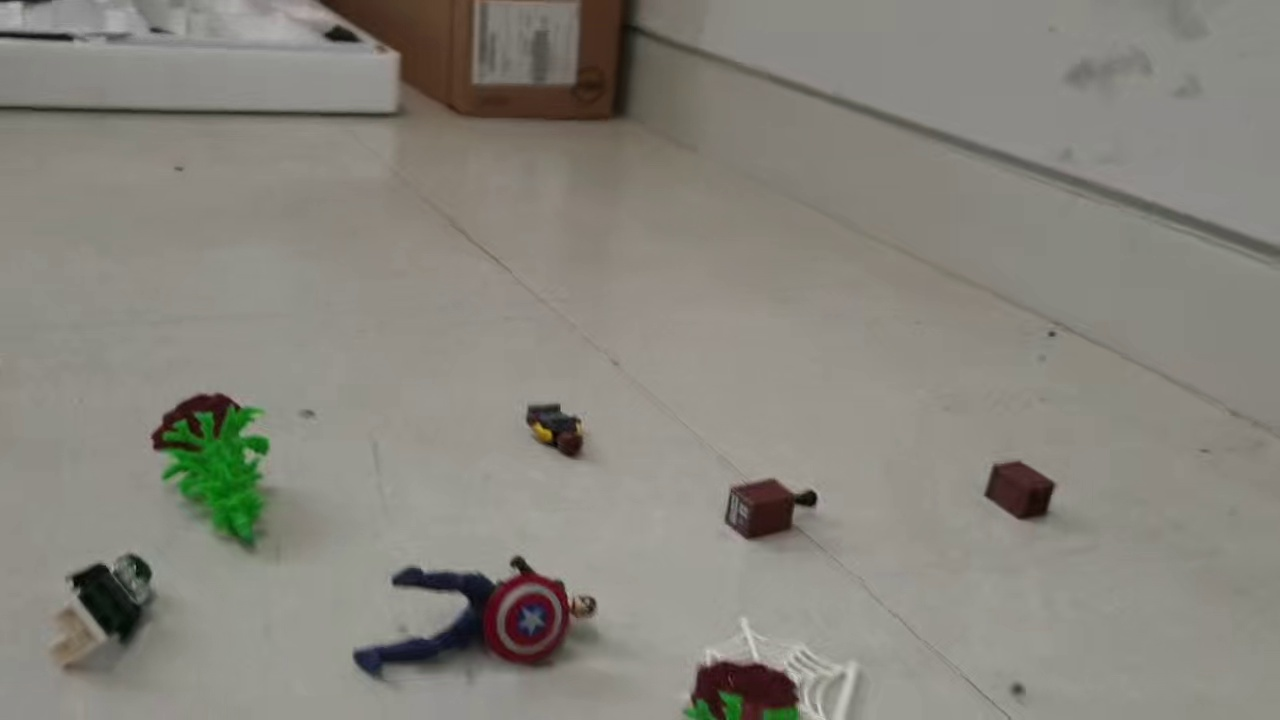box: (725, 478, 821, 542), (984, 460, 1057, 524)
people: (353, 555, 600, 681), (48, 549, 156, 676), (526, 401, 586, 457)
tree: (151, 393, 276, 557), (683, 662, 799, 720)
web: (677, 617, 866, 720)
